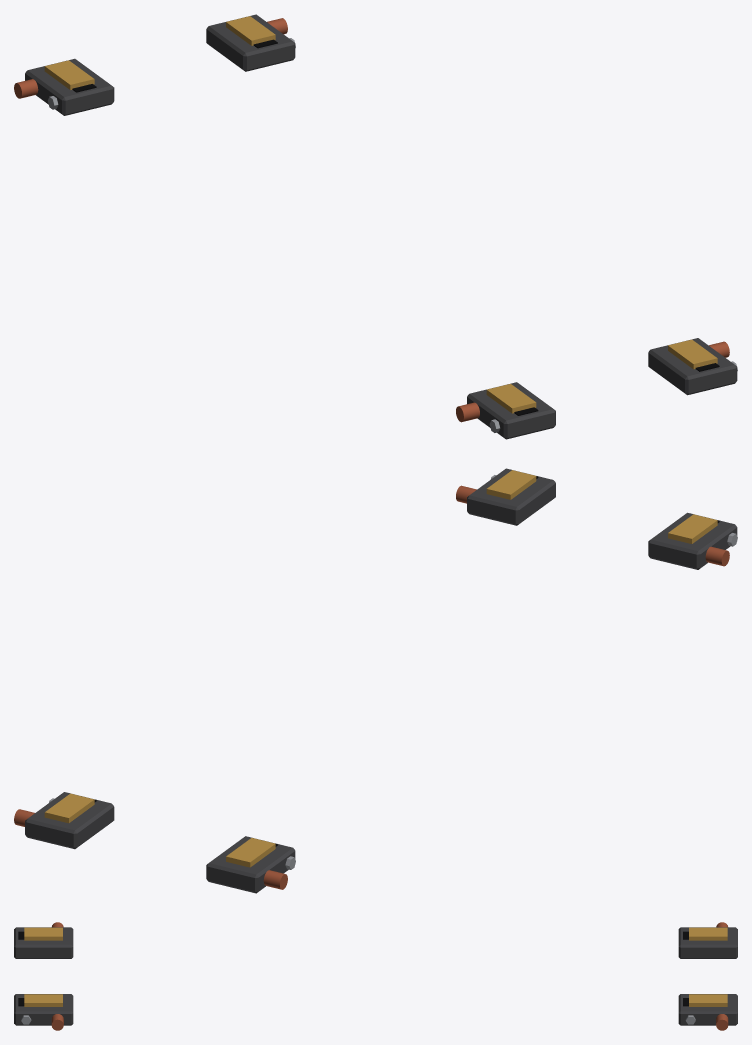
File: boat20_release.obj
The picture shows the model from 3 angles, top to bottom: view 1: azimuth 30°, elevation 25°; view 2: azimuth 150°, elevation 25°; view 3: azimuth 270°, elevation 25°; orthographic projection. The views are drawn at different scales.
Parts seen in each view (by area): view 1: boat20_release; view 2: boat20_release; view 3: boat20_release.
Part boxes in pixels (box(x1,y1,x2,y2)): boat20_release: box(14, 14, 737, 439); boat20_release: box(14, 468, 737, 893); boat20_release: box(14, 922, 737, 1030).
Size of the model in its own units: 1.32 by 0.115 by 4.14.
